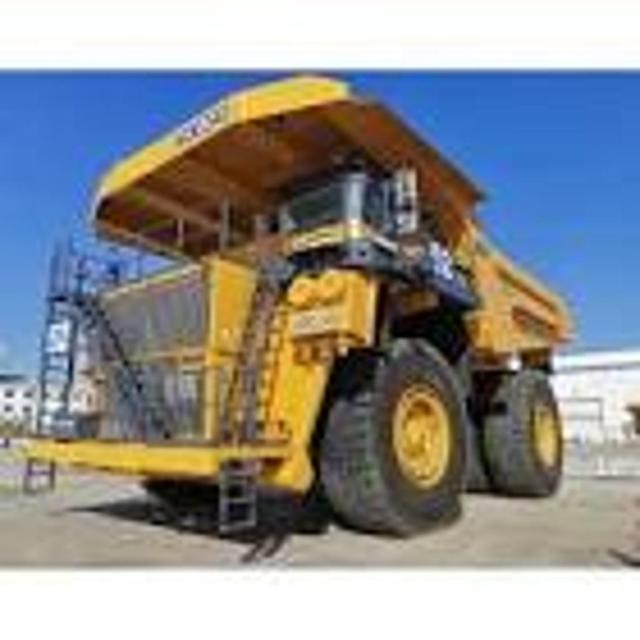dump_truck: (13, 72, 568, 538)
